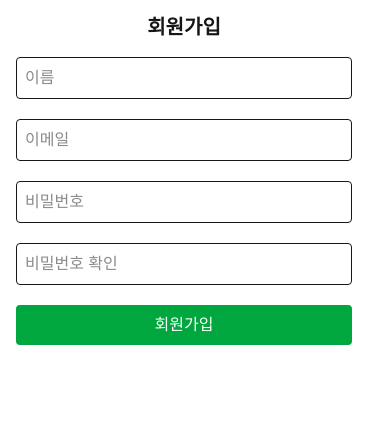
Test case: SignUpPage › shows validation error when password does not match
The image size is (369, 422).
Type "password123!" into the password field with placeholder "비밀번호".
click(184, 202); type("password123!")  # box [16, 181, 352, 223]
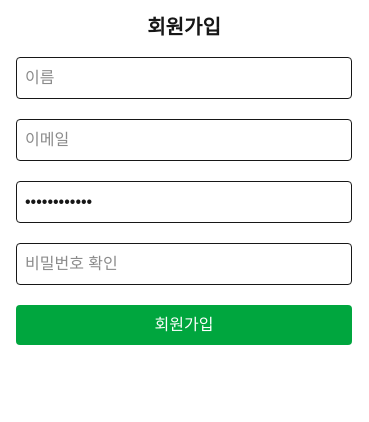
Type "wrongpassword" into the password field with placeholder "비밀번호 확인".
click(184, 264); type("wrongpassword")  # box [16, 243, 352, 285]
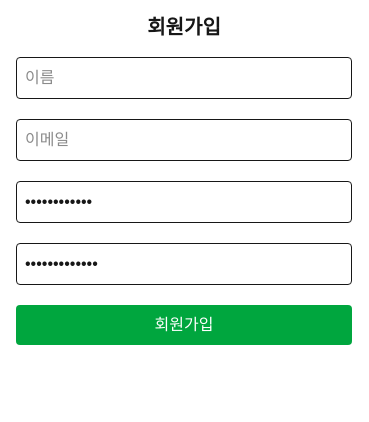
Click the button "회원가입".
click(184, 325)  # box [16, 305, 352, 345]
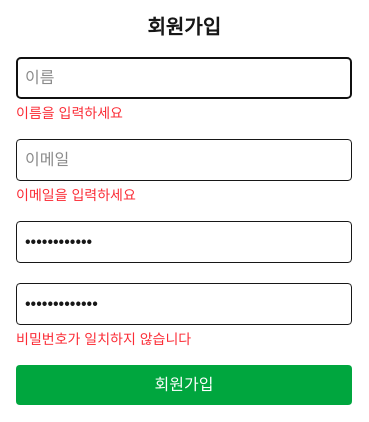
Check: the text "비밀번호가 일치하지 않습니다" is shown, box [16, 331, 191, 347]
